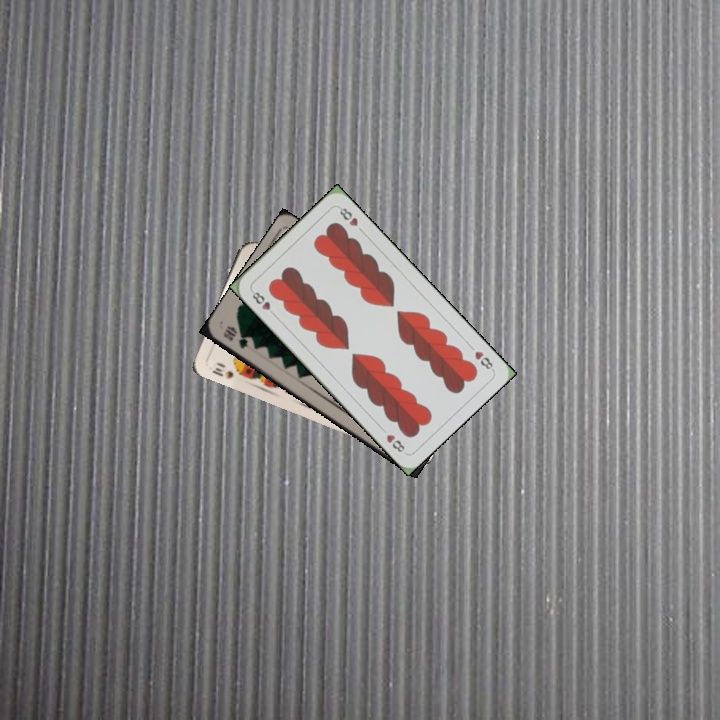G10: (219, 322, 250, 351)
H8: (247, 286, 279, 319), (464, 340, 496, 373)
S10: (208, 358, 237, 382)
